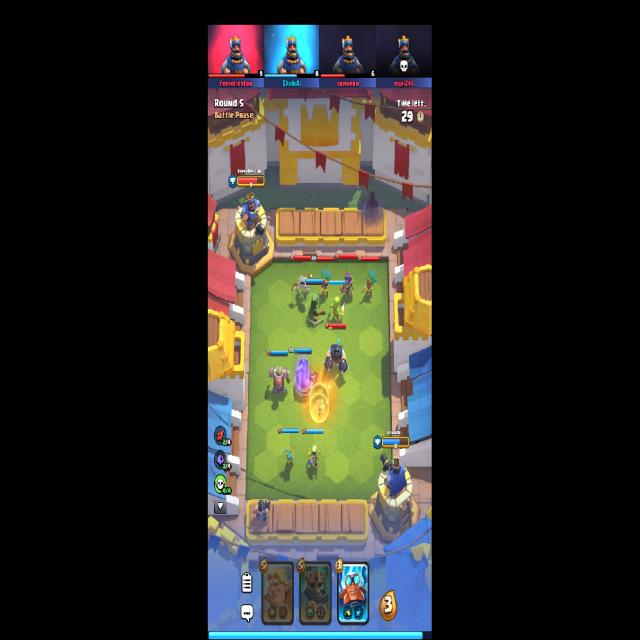archer_queen: (339, 271, 354, 297)
bandit: (306, 295, 326, 325)
card_electro_giant: (336, 560, 369, 626)
card_golden_knight: (262, 560, 294, 625)
card_skeleton_king: (298, 561, 333, 626)
dart_goblin: (362, 270, 376, 300), (319, 270, 332, 297), (283, 443, 296, 468)
executioner: (252, 498, 271, 522)
goblin: (329, 296, 345, 323)
goblin_machine: (268, 365, 290, 395)
mega_knight: (294, 359, 320, 397), (325, 338, 348, 377)
skeleton_dragon: (292, 272, 312, 297)
spear_goblin: (308, 445, 321, 471)
